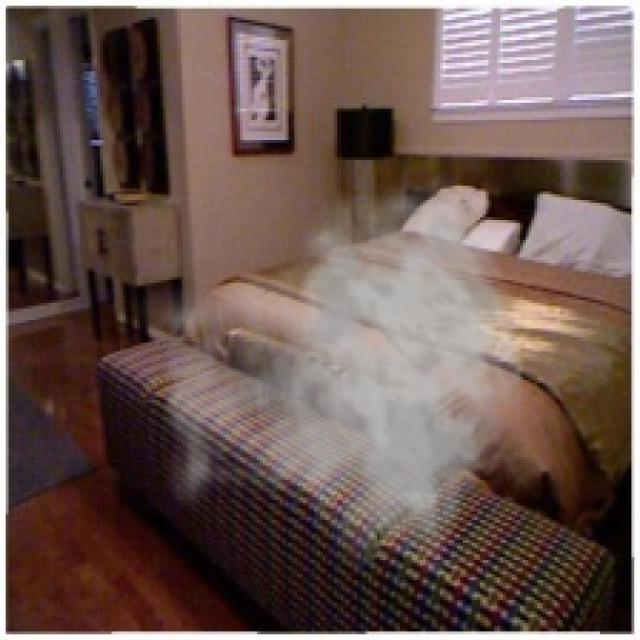Smoke: (128, 171, 526, 580)
